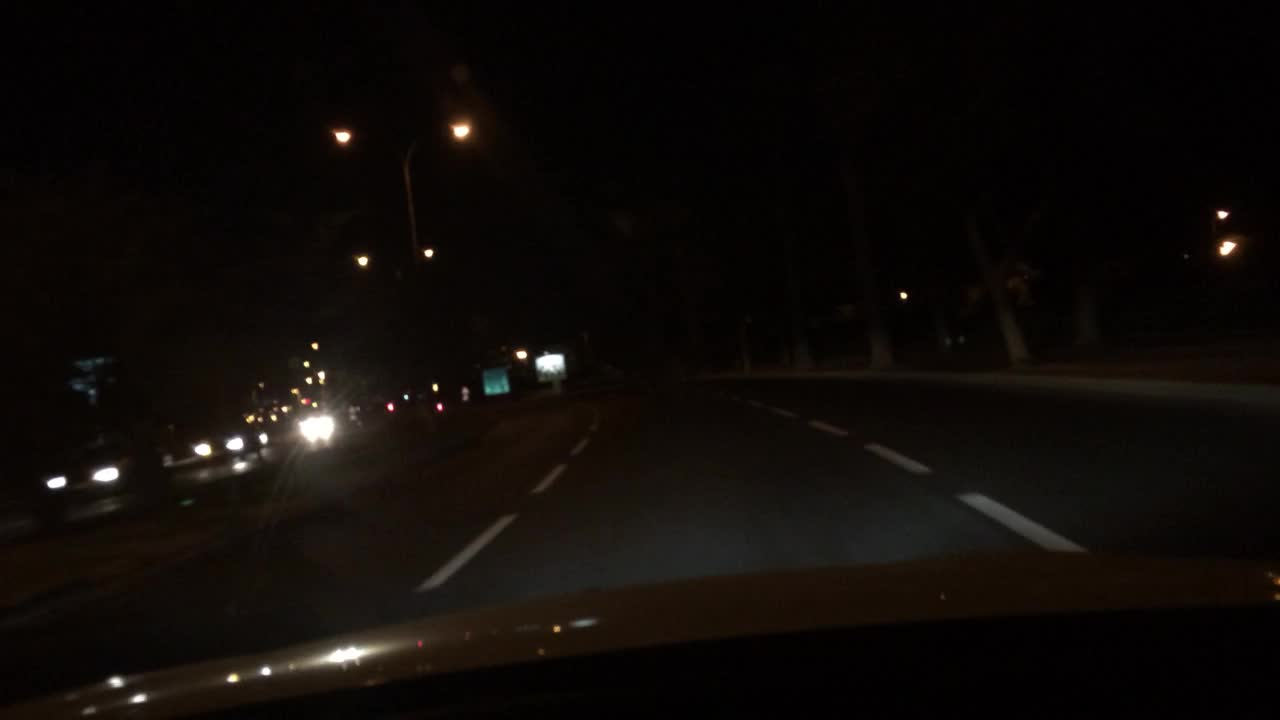car: (44, 440, 158, 499), (192, 432, 249, 462), (296, 415, 338, 440), (247, 428, 273, 448)
traffic sign: (534, 353, 568, 383), (483, 366, 508, 394), (461, 385, 469, 400), (386, 402, 396, 410), (435, 404, 443, 411)
